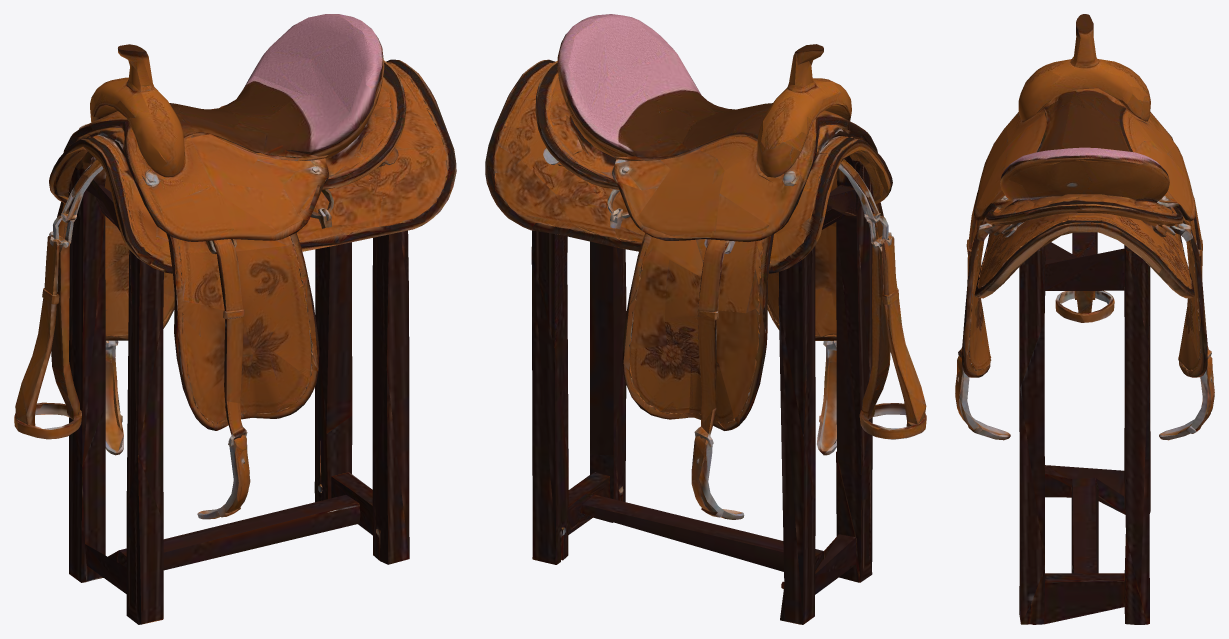
The model's file is saddle_rack.glb.
3 views of the same model, side by side, from view 1: azimuth 30°, elevation 25°; view 2: azimuth 150°, elevation 25°; view 3: azimuth 270°, elevation 25° (orthographic). The views are drawn at different scales.
Bounding box in the file's own units: 1.43 × 1.9 × 0.8984.
Materials: 1 (1 with a texture image).
